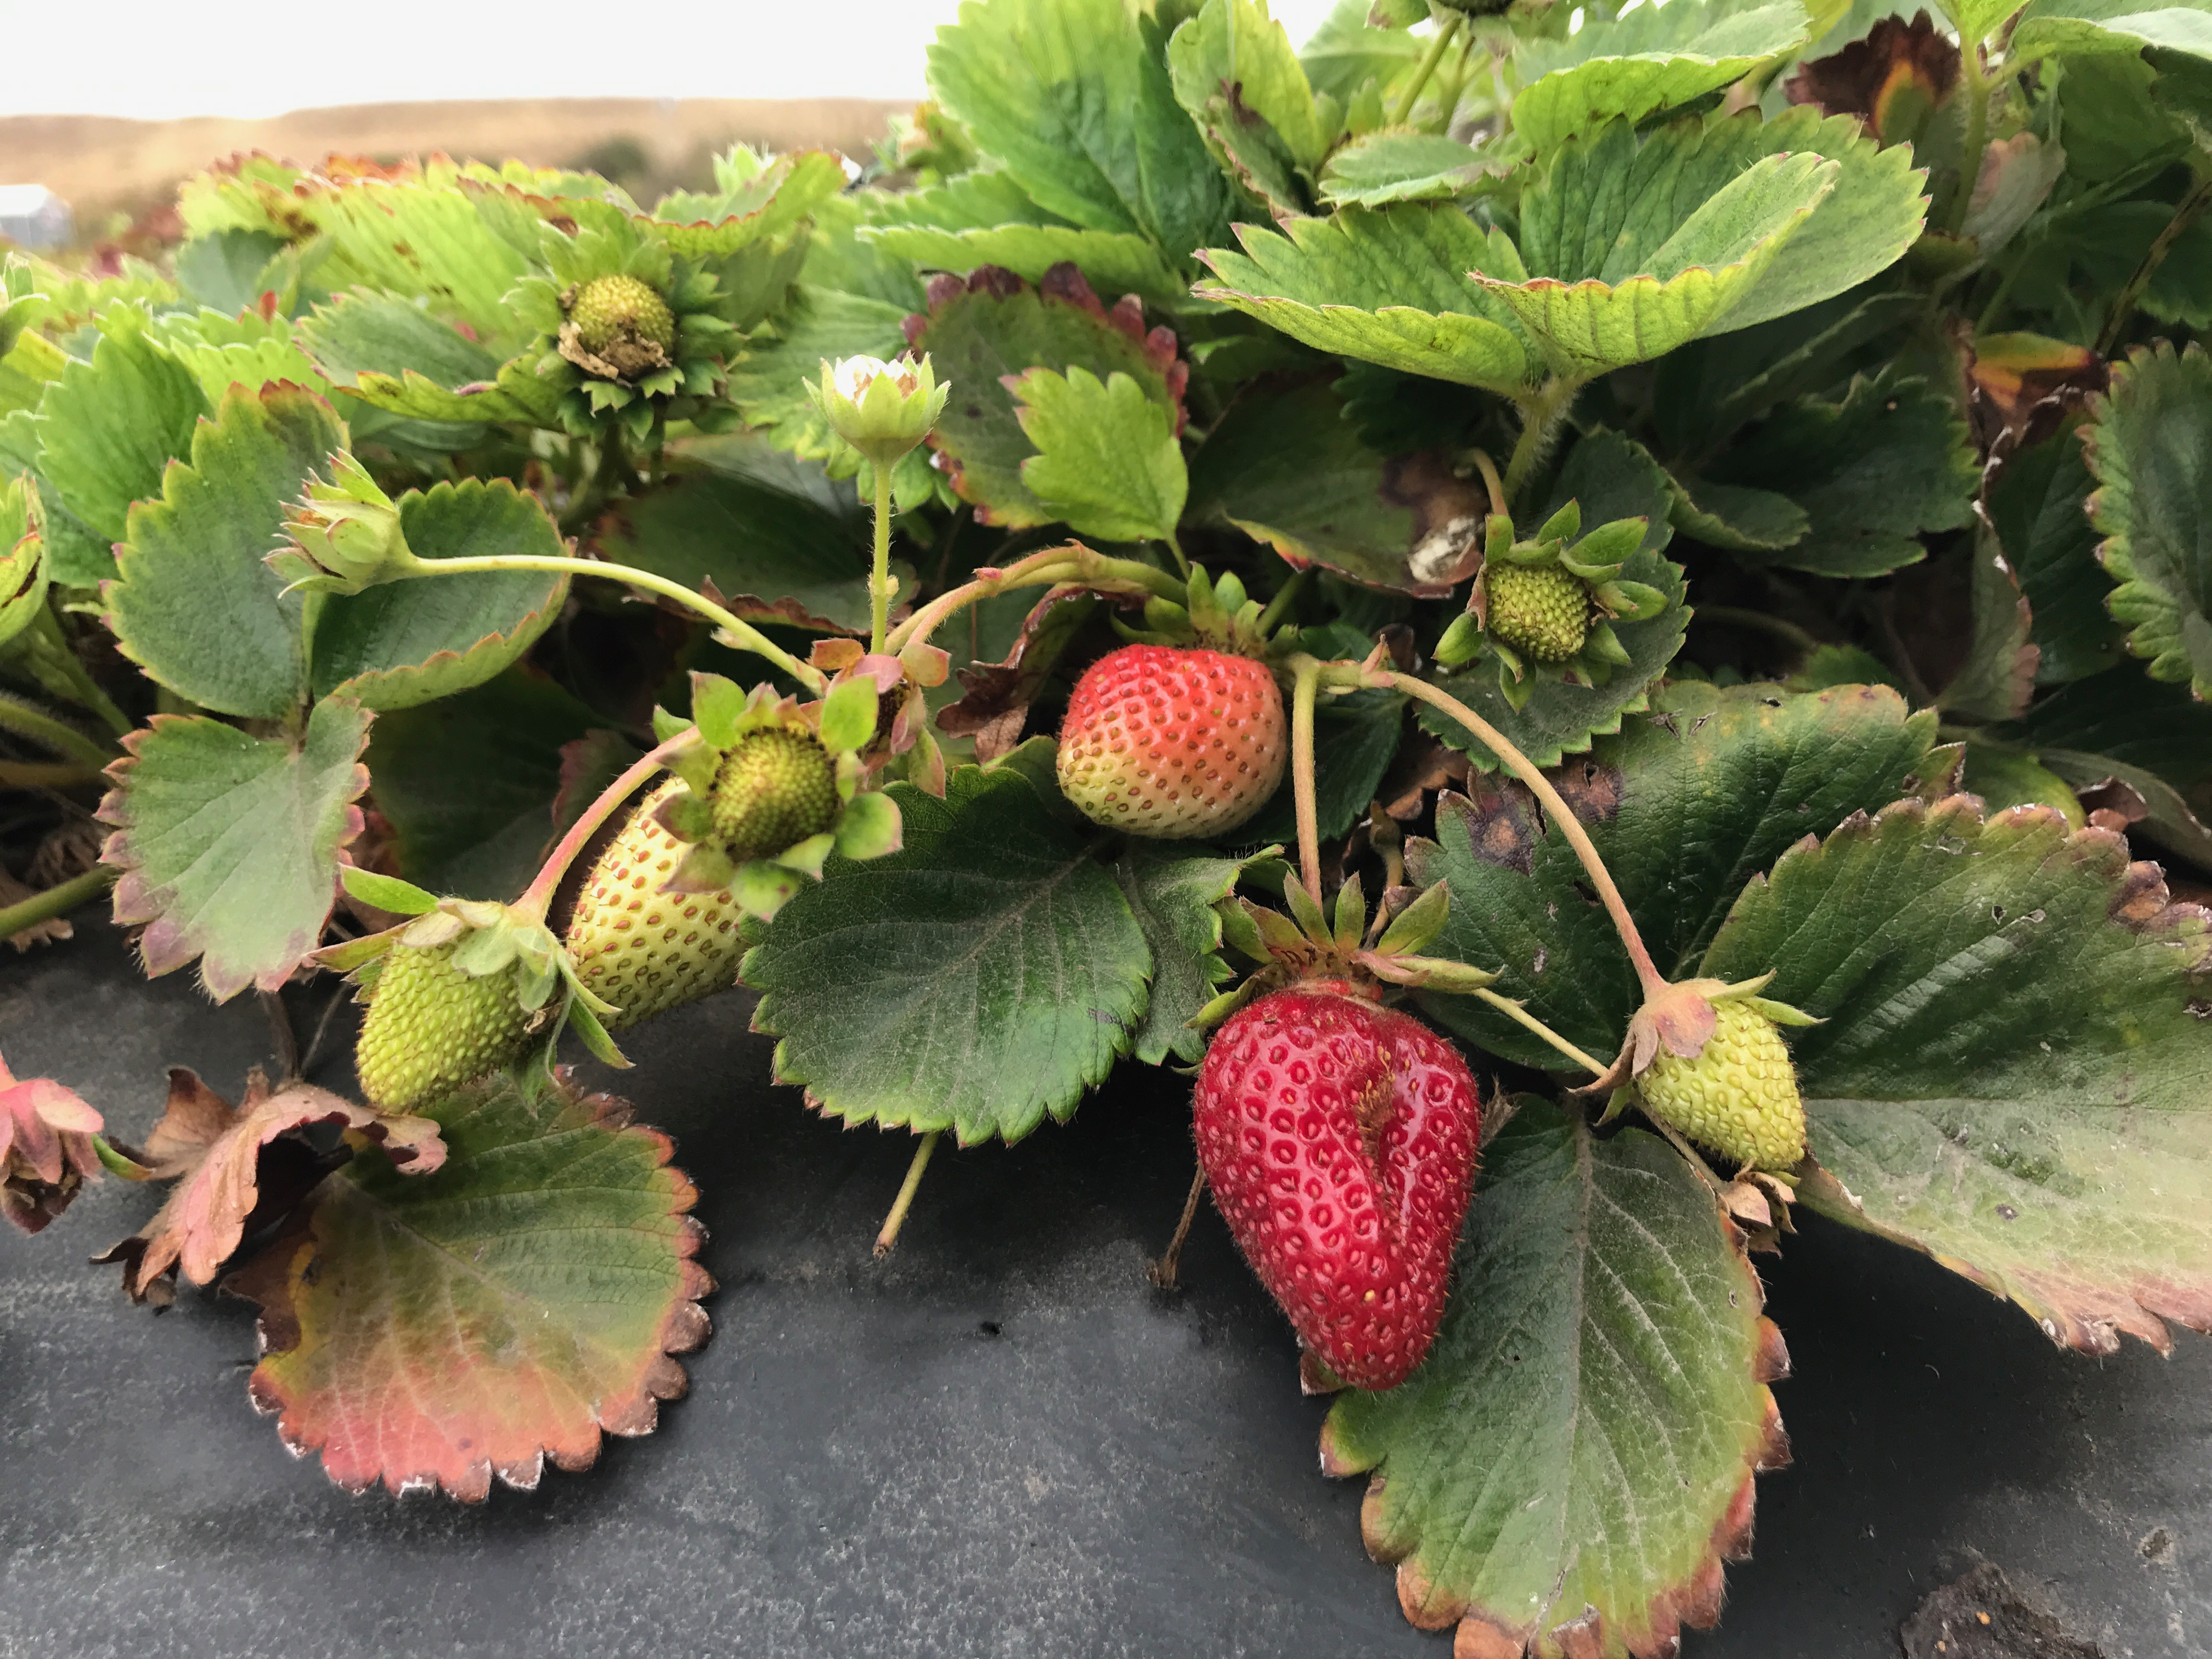ripe_strawberry: (1183, 908, 1493, 1398)
unripe_strawberry: (566, 767, 779, 1018), (1059, 627, 1292, 850), (350, 894, 557, 1126), (1629, 976, 1815, 1180), (698, 716, 843, 861), (1470, 540, 1613, 676), (547, 261, 688, 385)
